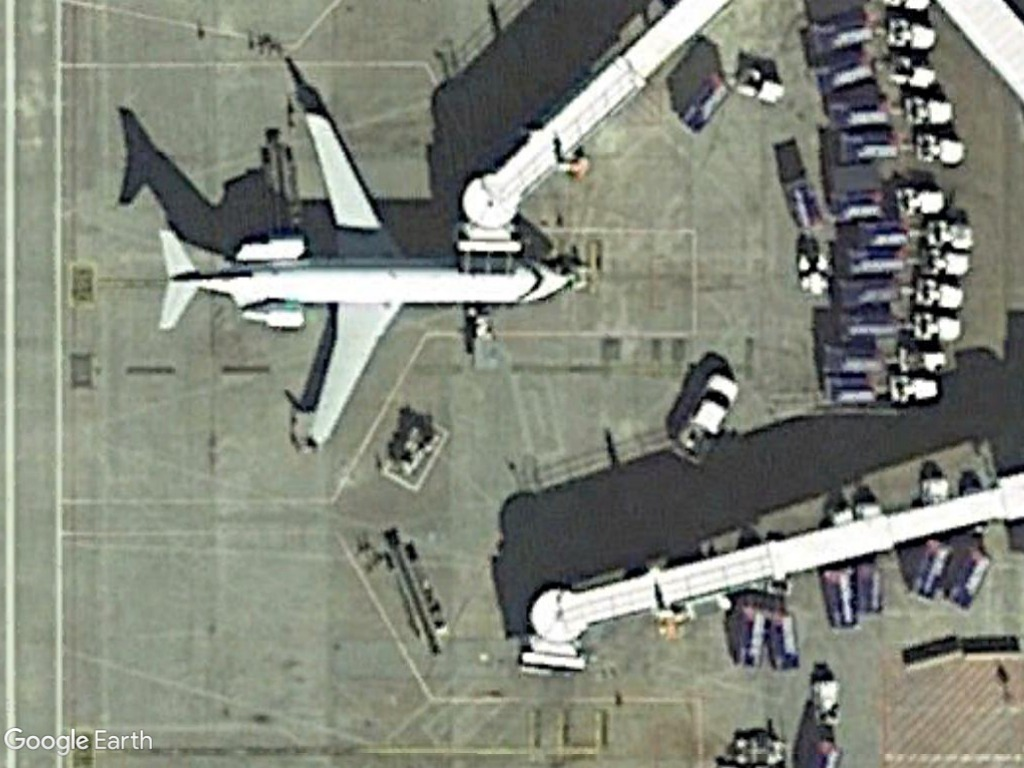chartered: (148, 108, 575, 452)
other: (669, 371, 744, 459)
